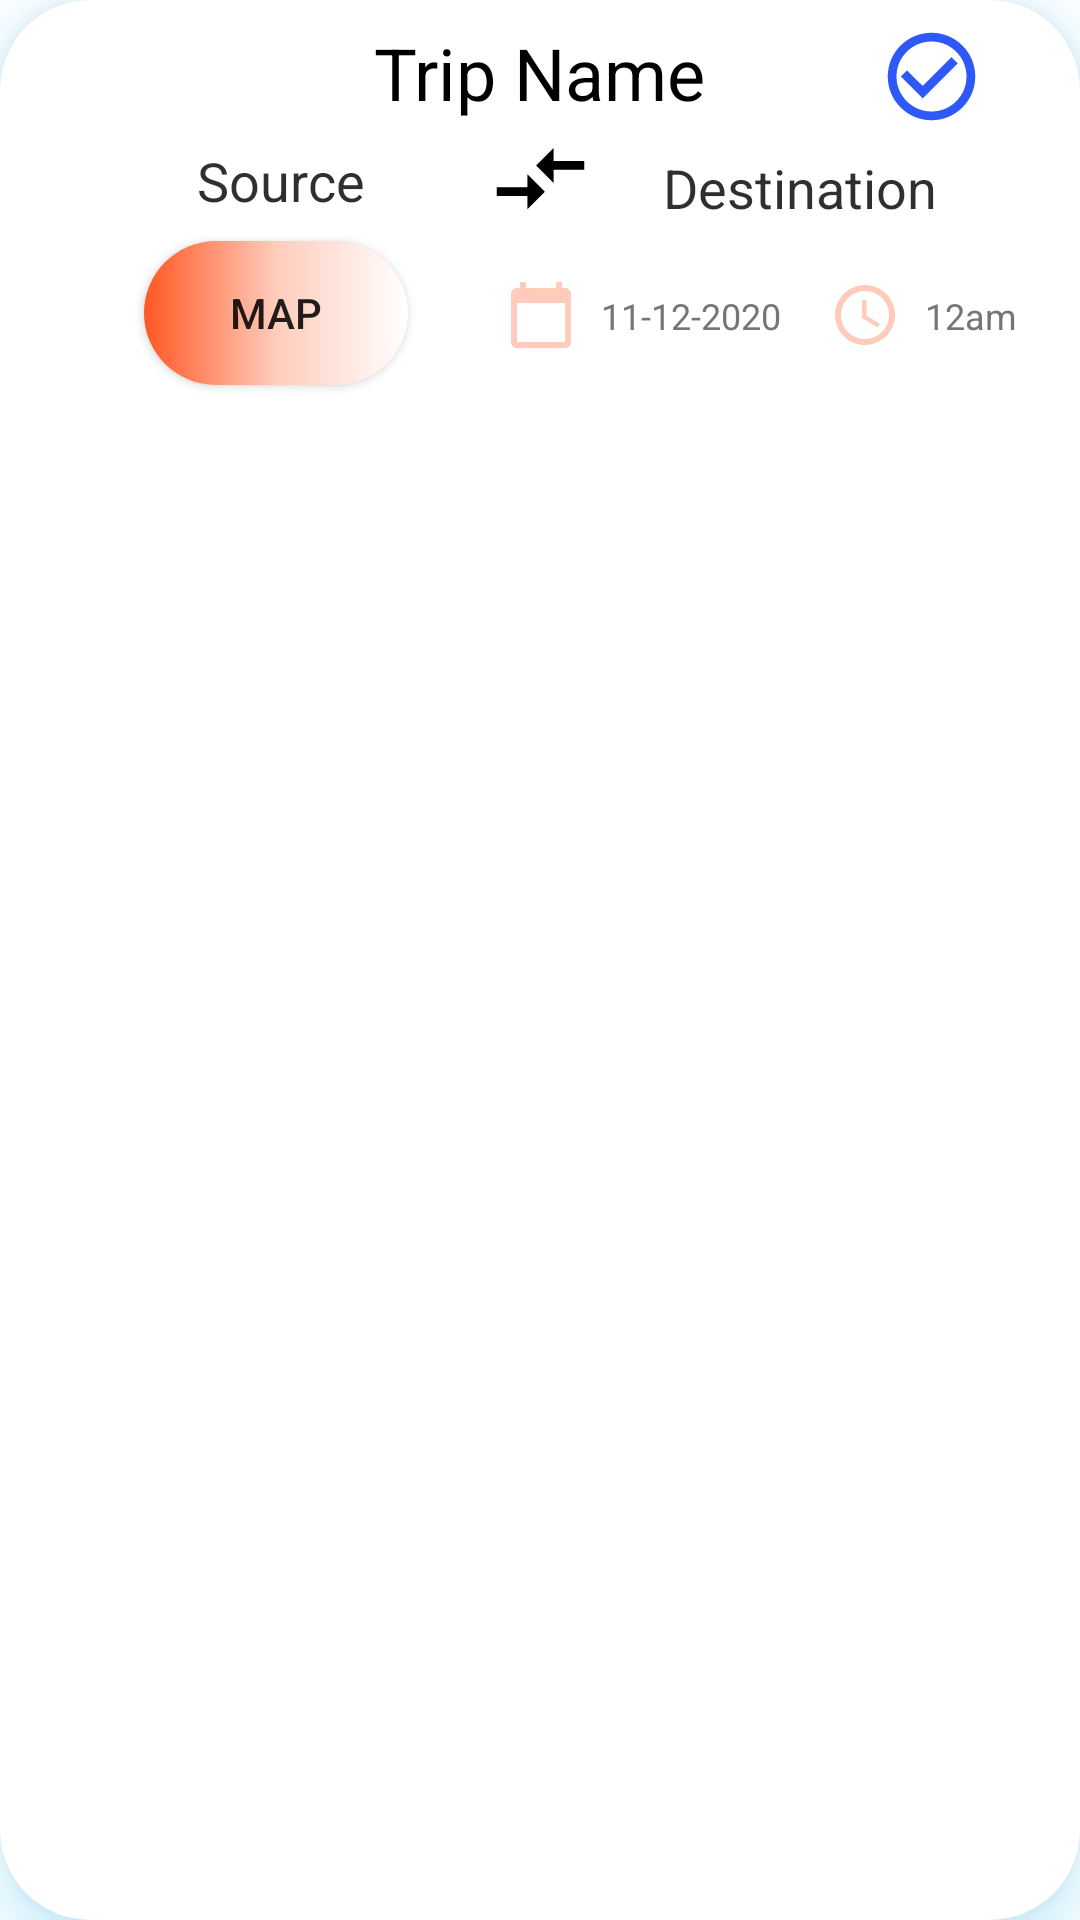

Named icons in this screenshot (1080*1920) and their centers, (x=x, y=y):
Arrow Direction: (x=540, y=178)
calendar: (x=541, y=315)
time: (x=865, y=315)
